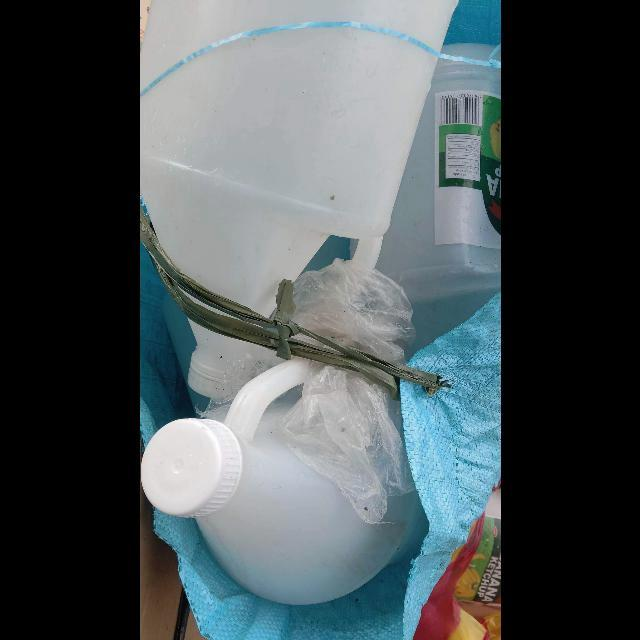plastic_bag: (280, 362, 415, 524), (291, 258, 416, 367)
plastic_bottle: (139, 358, 429, 606), (186, 323, 263, 401)
plastic_container: (139, 0, 459, 319), (375, 44, 501, 342)
